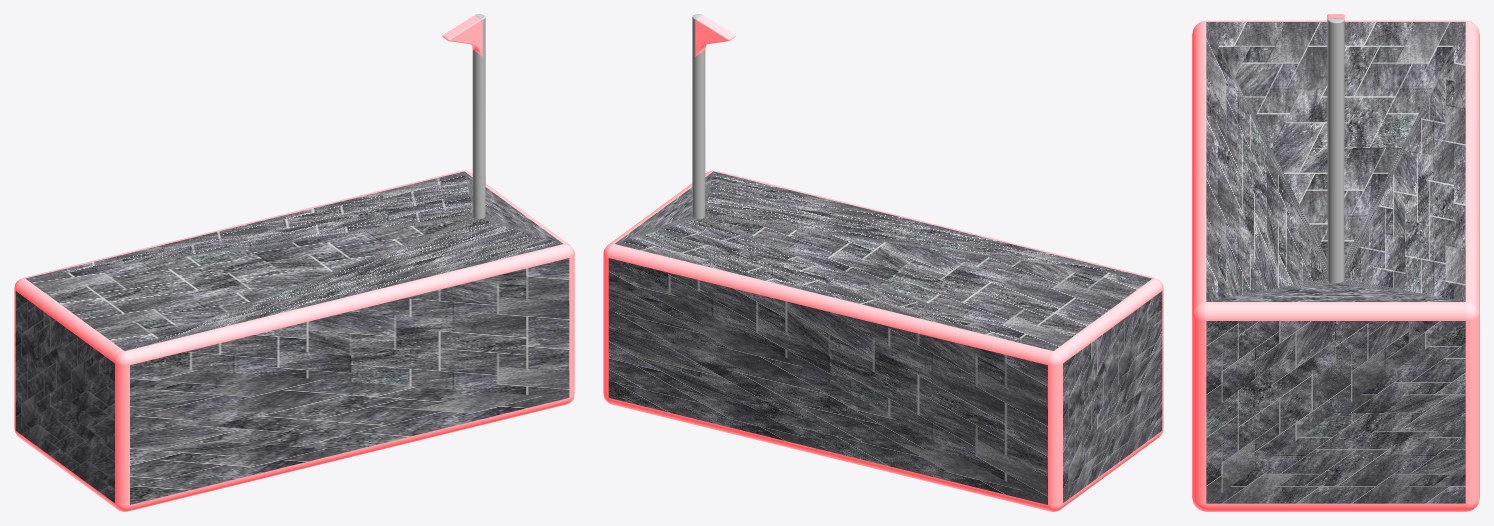
File: end_piece_textured.fbx
The picture shows the model from 3 angles, left to right: view 1: azimuth 30°, elevation 25°; view 2: azimuth 150°, elevation 25°; view 3: azimuth 270°, elevation 25°; orthographic projection. The views are drawn at different scales.
Visible parts, largest first — view 1: Cart_End Updated; view 2: Cart_End Updated; view 3: Cart_End Updated.
Part boxes in pixels (x1,y1,x2,y2): Cart_End Updated: (14, 14, 574, 511); Cart_End Updated: (603, 14, 1163, 511); Cart_End Updated: (1192, 14, 1479, 511).
Bounding box in the file's own units: 24000 × 18000 × 10000.
